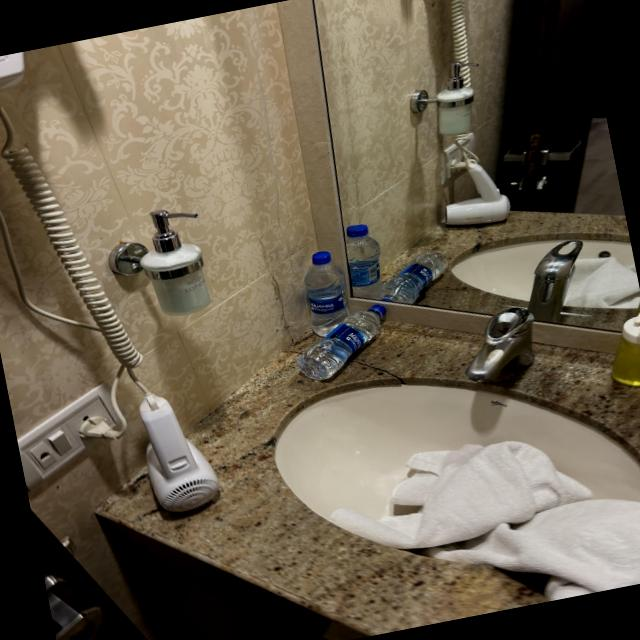mess: (85, 244, 640, 640)
